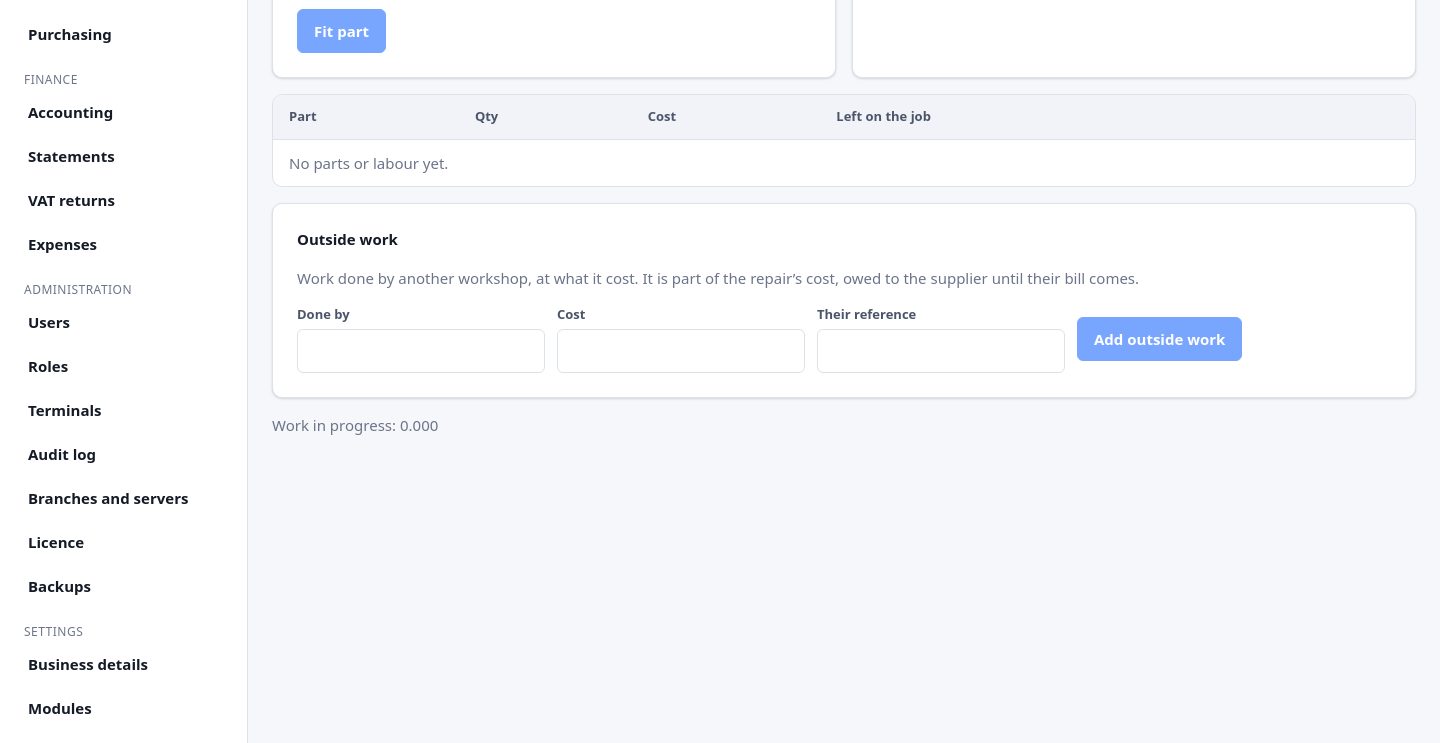
Test: parts on repair jobs (Phase 9) › shows the job’s parts, fits them, and records outside work that is reversed once
Earlier steps of the test are not shown.
(page scrolled)
In the field labelled "Done by": (421, 350) [297,328,545,372], type "Ruwi Board Lab"
In the field labelled "Cost": (681, 350) [557,328,805,372], type "7.250"
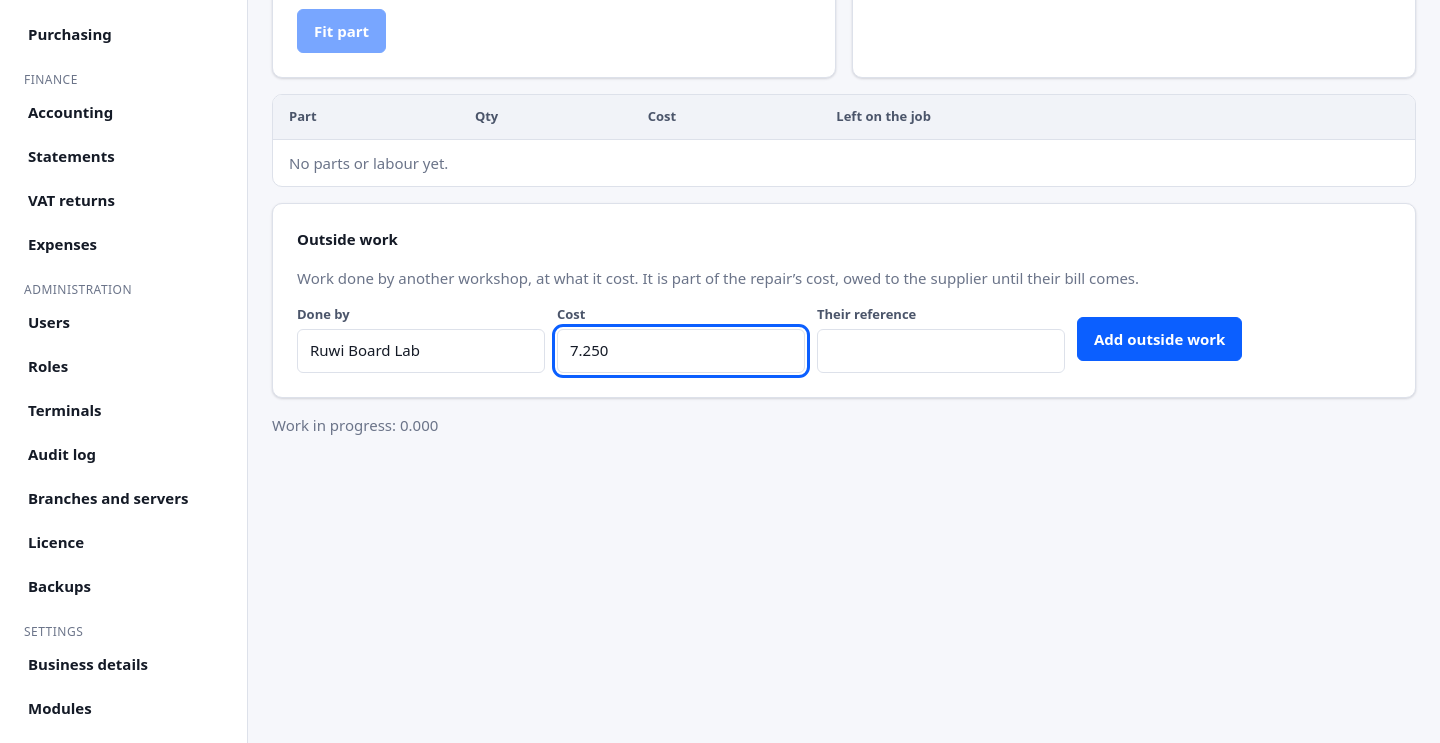
In the field labelled "Their reference": (941, 350) [817,328,1065,372], type "RBL-78"
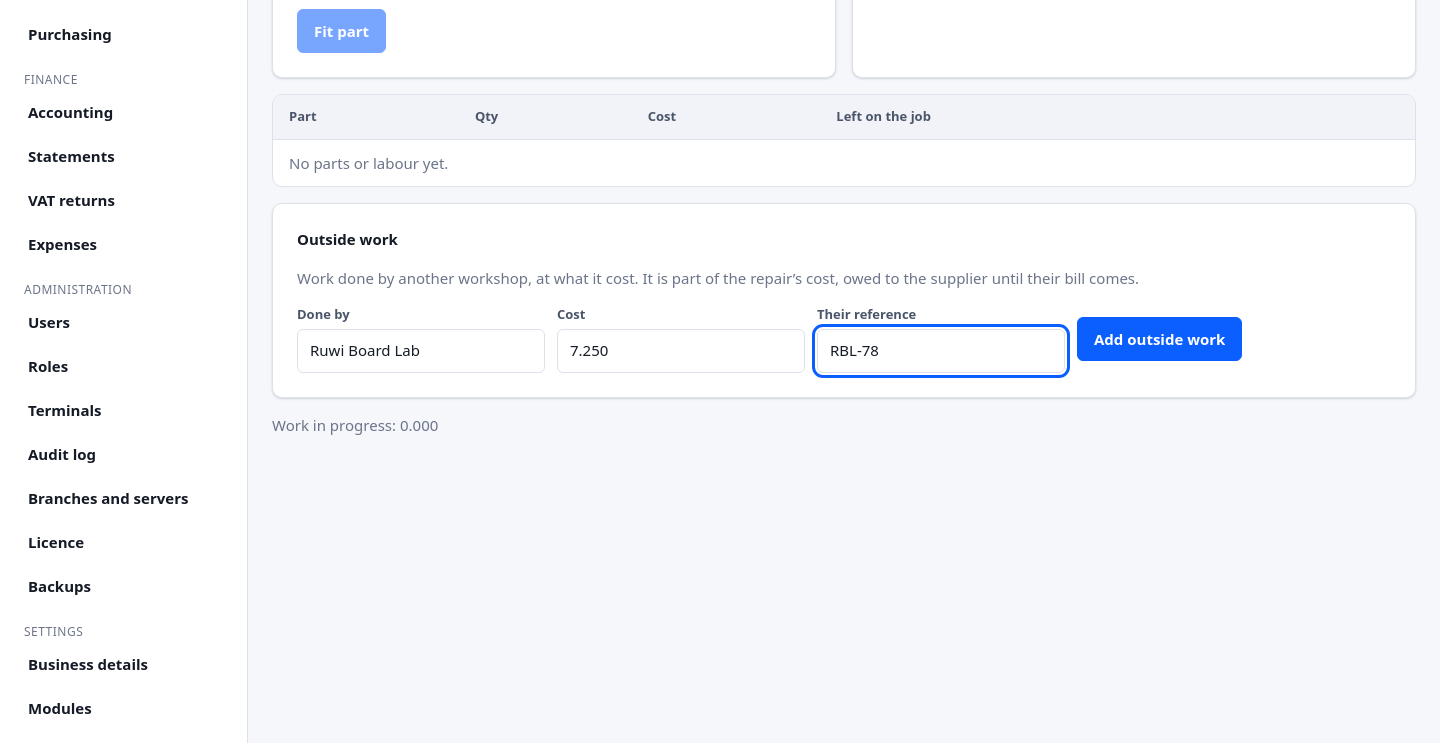
Click the button "Add outside work": (1160, 339) [1077,317,1242,361]
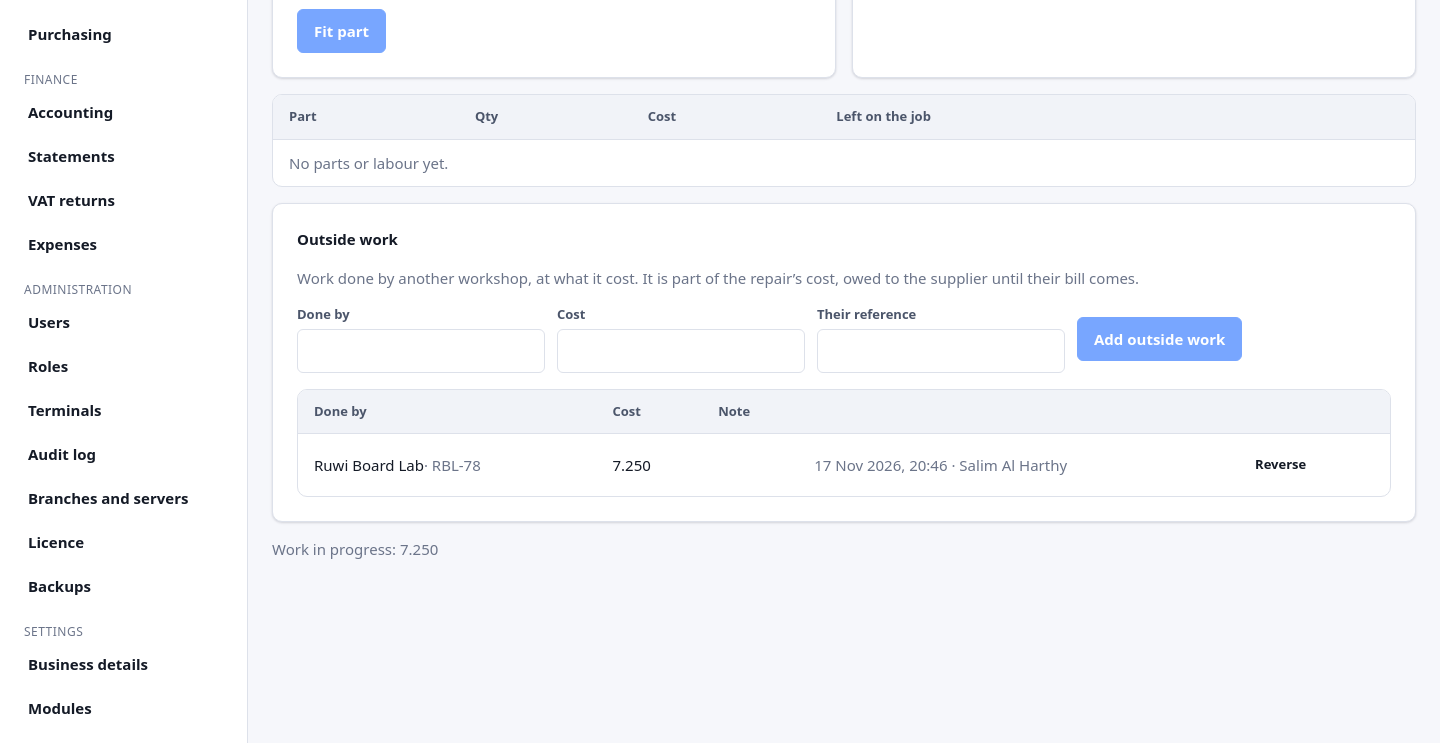
Now the text "Ruwi Board Lab" shows "7.250", box [612,454,651,474]
Click the button "Reverse": (1281, 465) [1242,446,1319,484]
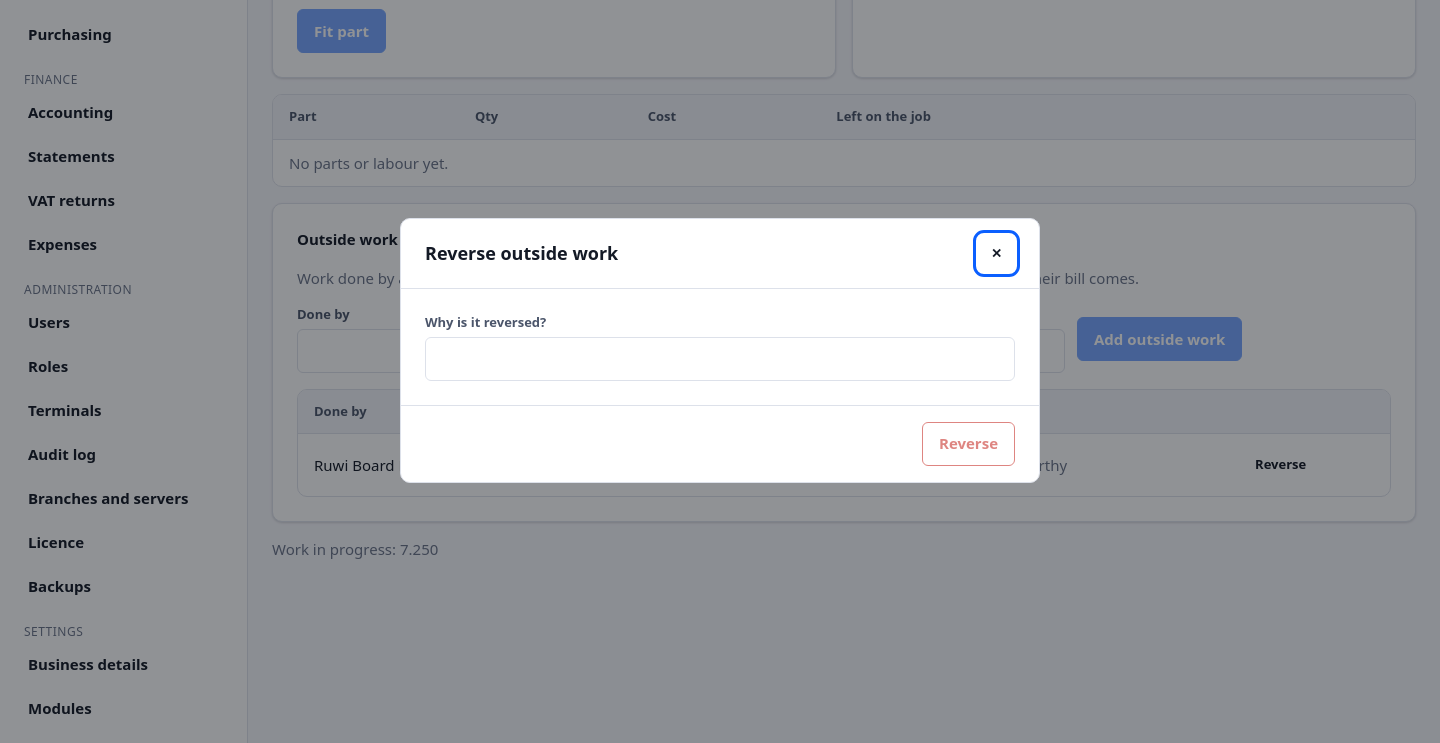
In the field labelled "Why is it reversed?": (720, 358) [425,336,1015,380], type "Entered on the wrong job"
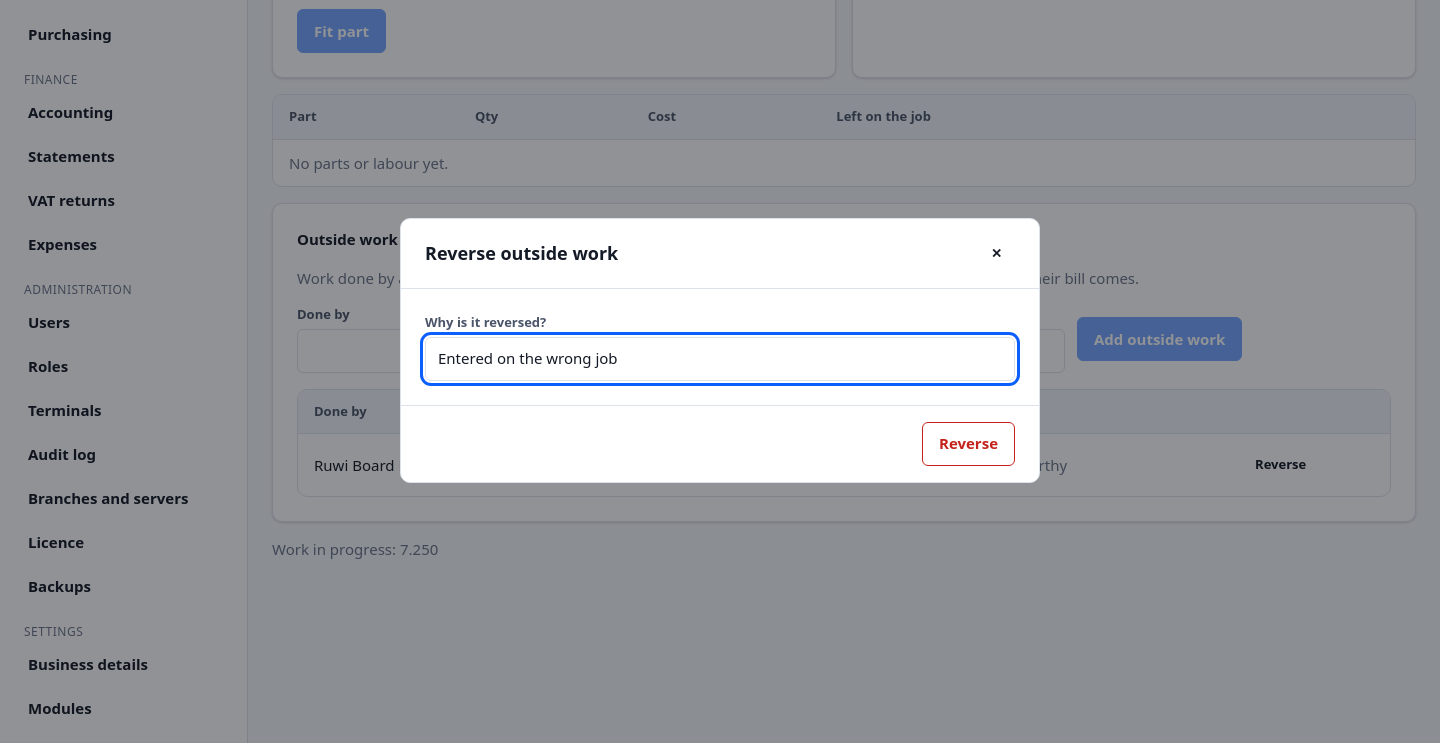
Click the button "Reverse": (968, 444) [922,422,1015,466]
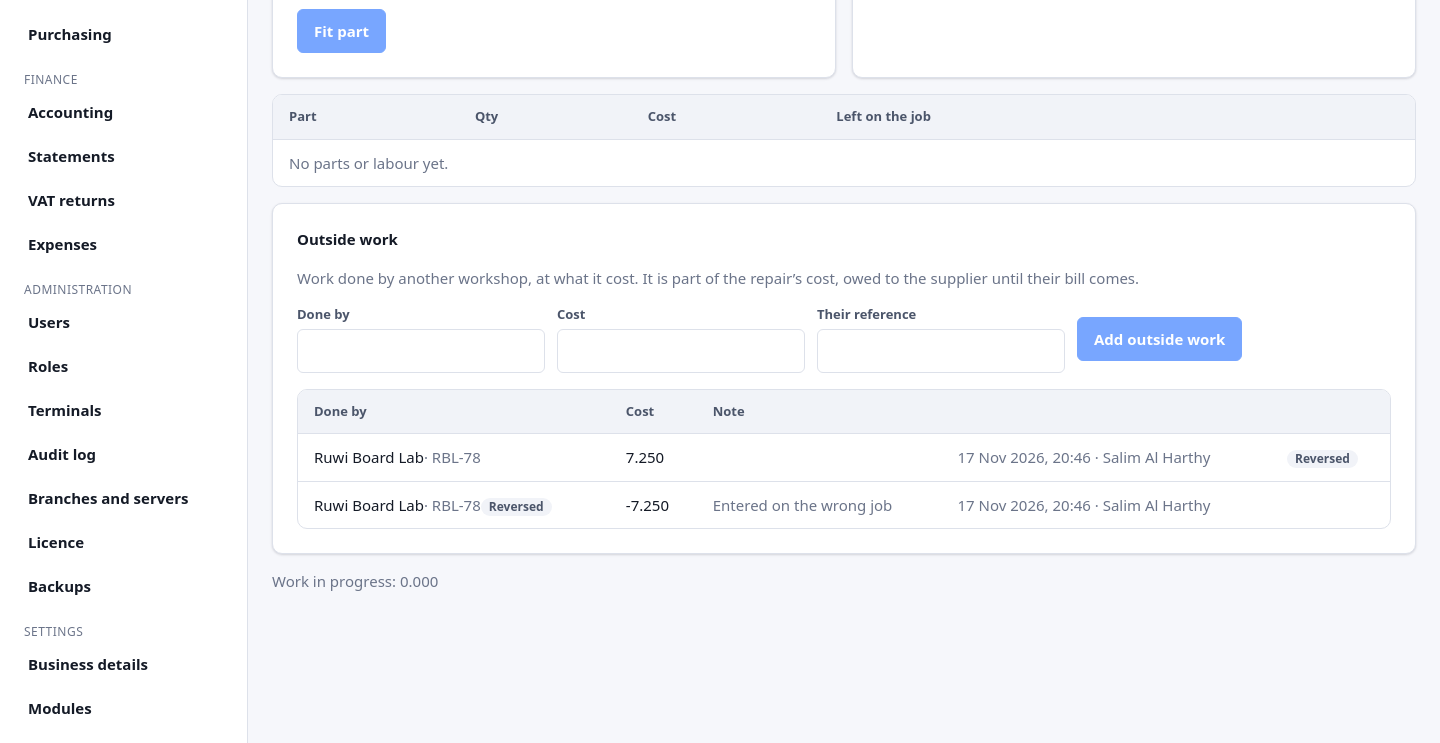
Now the dialog is gone
